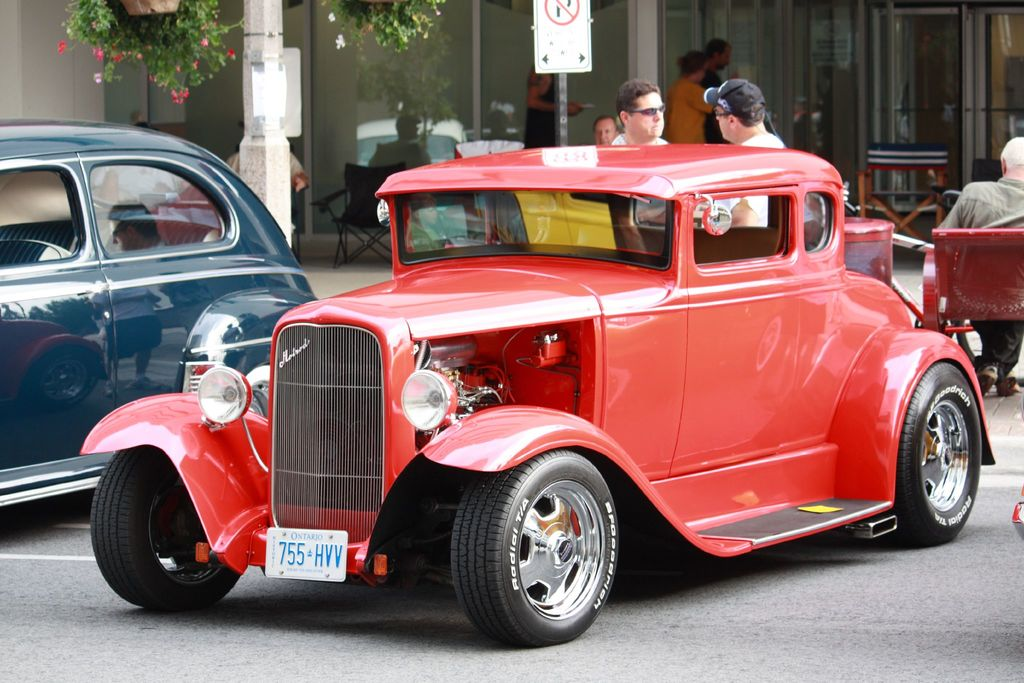Car: (79, 143, 995, 647), (0, 117, 317, 516)
